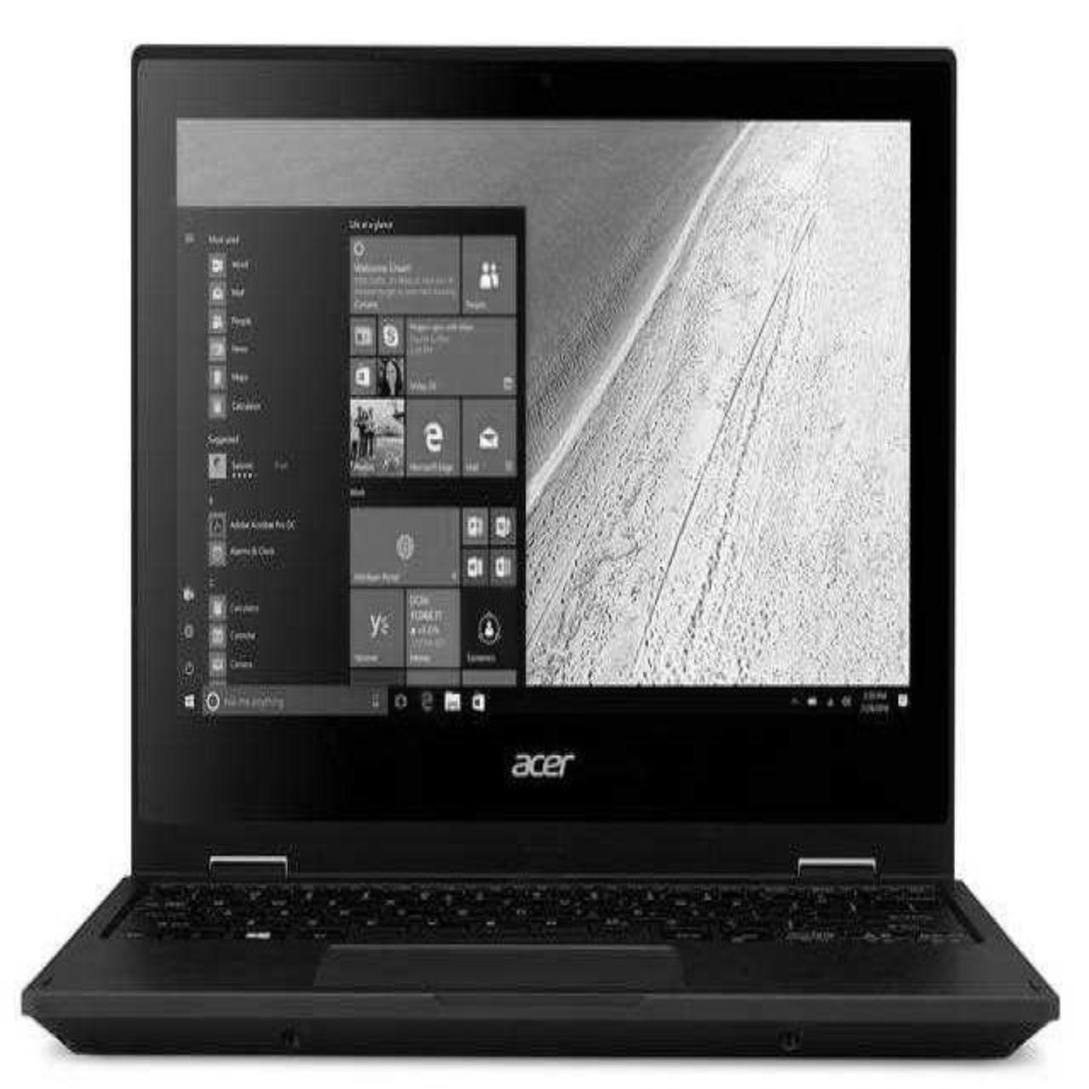laptop: (111, 48, 1006, 1047)
